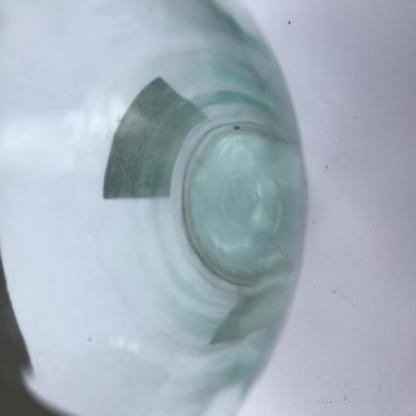trash: (1, 2, 309, 416)
